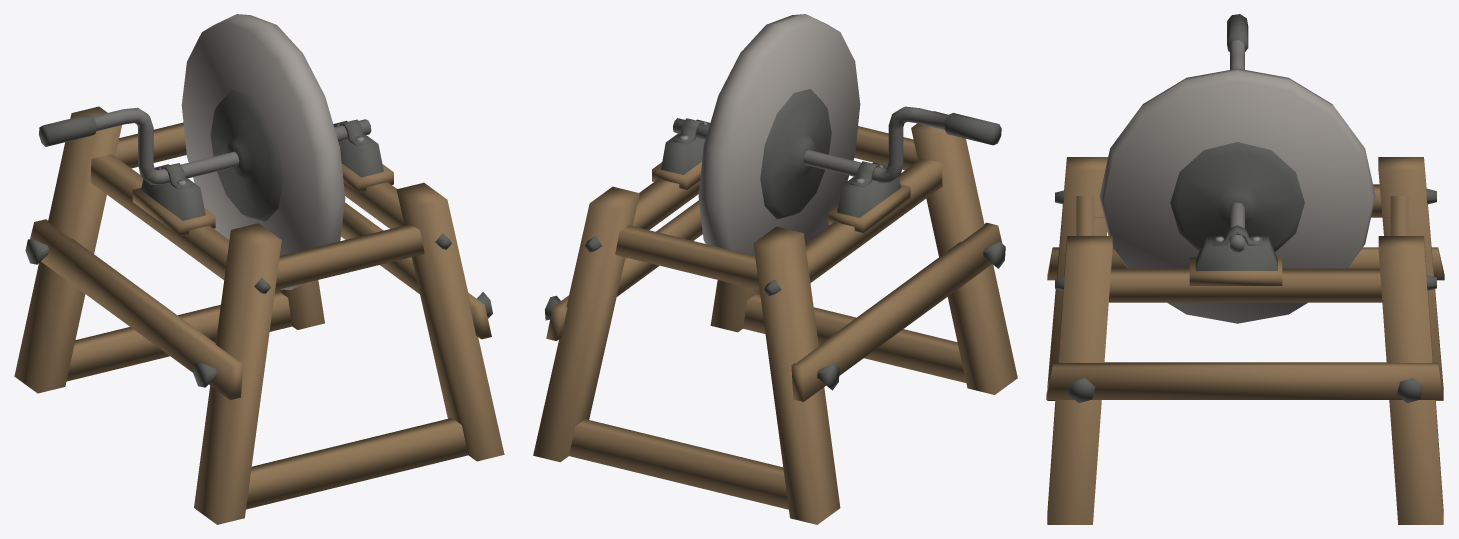
The model's file is rpgpp_ag_blacksmith_grindstone_01.fbx.
The picture shows the model from 3 angles, left to right: view 1: azimuth 30°, elevation 25°; view 2: azimuth 150°, elevation 25°; view 3: azimuth 270°, elevation 25°; orthographic projection. The views are drawn at different scales.
Parts seen in each view (by area): view 1: rpgpp_ag_blacksmith_grindstone_01; view 2: rpgpp_ag_blacksmith_grindstone_01; view 3: rpgpp_ag_blacksmith_grindstone_01.
Part boxes in pixels (box(x1,y1,x2,y2)): rpgpp_ag_blacksmith_grindstone_01: box(14, 14, 504, 524); rpgpp_ag_blacksmith_grindstone_01: box(533, 14, 1017, 524); rpgpp_ag_blacksmith_grindstone_01: box(1046, 14, 1444, 524).
Size of the model in its own units: 1.11 by 1.15 by 1.08.
